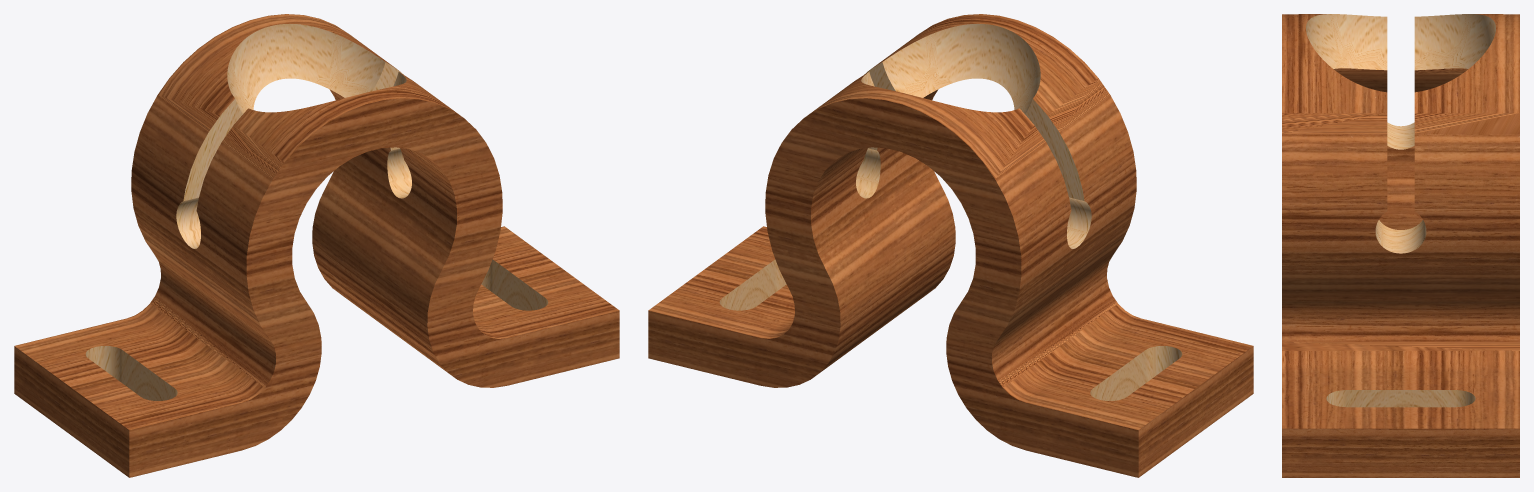
The model's file is Practice53_1.glb.
3 views of the same model, side by side, from view 1: azimuth 30°, elevation 25°; view 2: azimuth 150°, elevation 25°; view 3: azimuth 270°, elevation 25° (orthographic). The views are drawn at different scales.
Parts seen in each view (by area): view 1: Part 9, Part 8; view 2: Part 9, Part 8; view 3: Part 9, Part 8.
Boxes of the visible parts, box(x1,y1,x2,y2) form: Part 9: box(14, 14, 619, 477); Part 8: box(85, 24, 548, 400); Part 9: box(648, 14, 1253, 477); Part 8: box(719, 24, 1182, 400); Part 9: box(1282, 14, 1519, 477); Part 8: box(1306, 14, 1495, 407).
Bounding box in the file's own units: 0.172 × 0.106 × 0.07.
2 materials, 2 textured.
